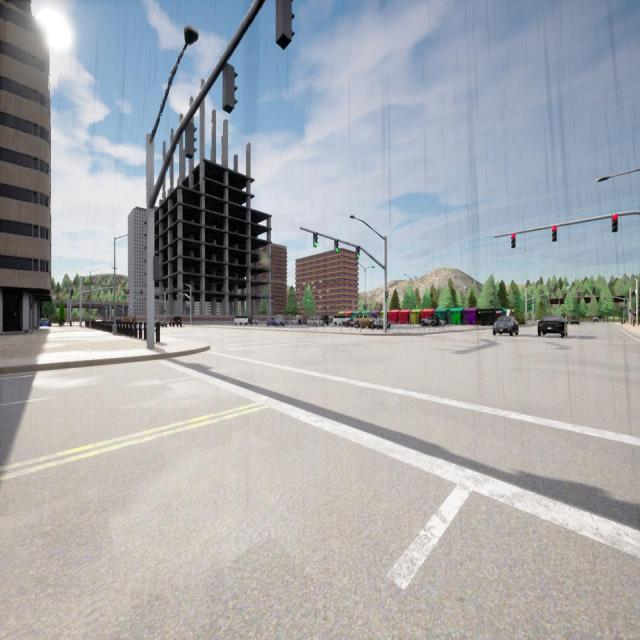Vehicle: (538, 316, 566, 336), (492, 316, 518, 336), (354, 314, 374, 328), (421, 316, 438, 326), (374, 318, 390, 328), (333, 316, 350, 325), (267, 318, 285, 326), (234, 315, 248, 325), (307, 317, 322, 326), (170, 316, 182, 326), (570, 315, 580, 325), (156, 320, 166, 327), (322, 315, 329, 325), (40, 319, 50, 326), (287, 318, 298, 324), (250, 317, 258, 324), (593, 317, 599, 323)
traffic_light: (276, 0, 295, 50), (222, 64, 238, 114), (185, 123, 197, 160), (154, 256, 162, 280), (612, 215, 618, 232), (552, 226, 557, 241), (512, 233, 516, 248), (313, 232, 317, 246), (356, 246, 360, 259), (334, 240, 338, 252), (385, 291, 389, 302), (134, 296, 136, 302), (589, 296, 592, 299), (164, 310, 166, 314), (604, 296, 606, 300), (578, 296, 580, 299), (630, 309, 631, 313), (124, 296, 125, 300)
